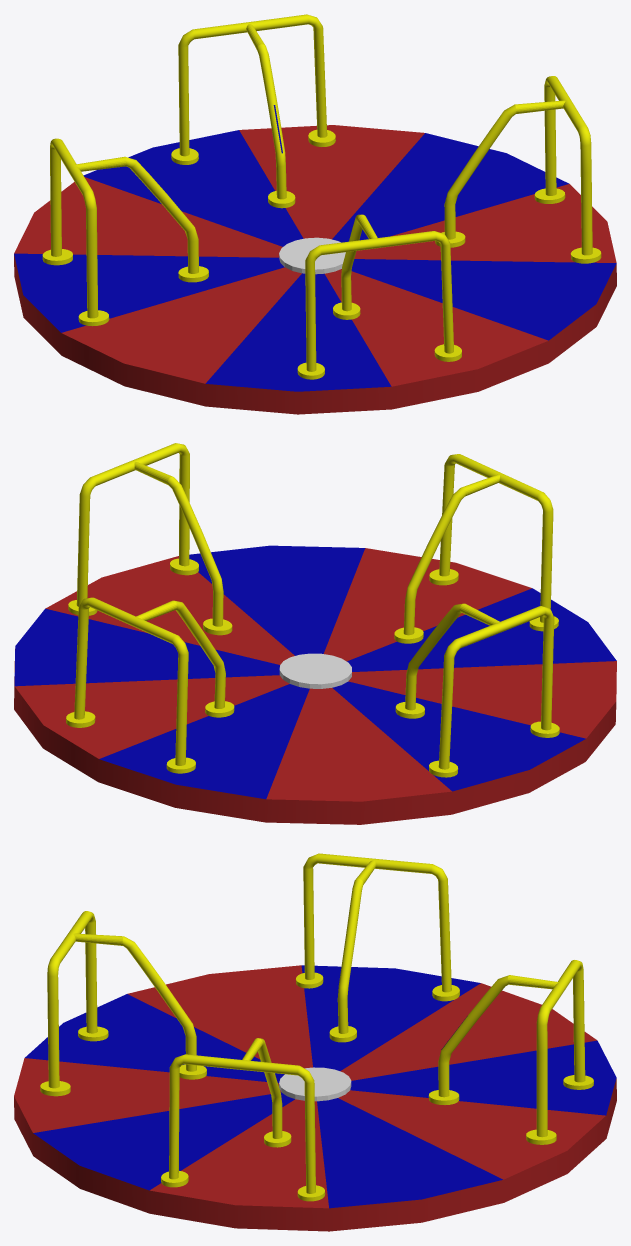
File: MerryGoRound.fbx
The picture shows the model from 3 angles, top to bottom: view 1: azimuth 30°, elevation 25°; view 2: azimuth 150°, elevation 25°; view 3: azimuth 270°, elevation 25°; orthographic projection.
Visible parts, largest first — view 1: polySurface35; view 2: polySurface35; view 3: polySurface35.
Boxes of the visible parts, x1,y1,x2,y2 form: polySurface35: (14,14,616,414); polySurface35: (14,443,616,824); polySurface35: (14,853,616,1231).
Bounding box in the file's own units: 17.8 × 6.61 × 17.8.
